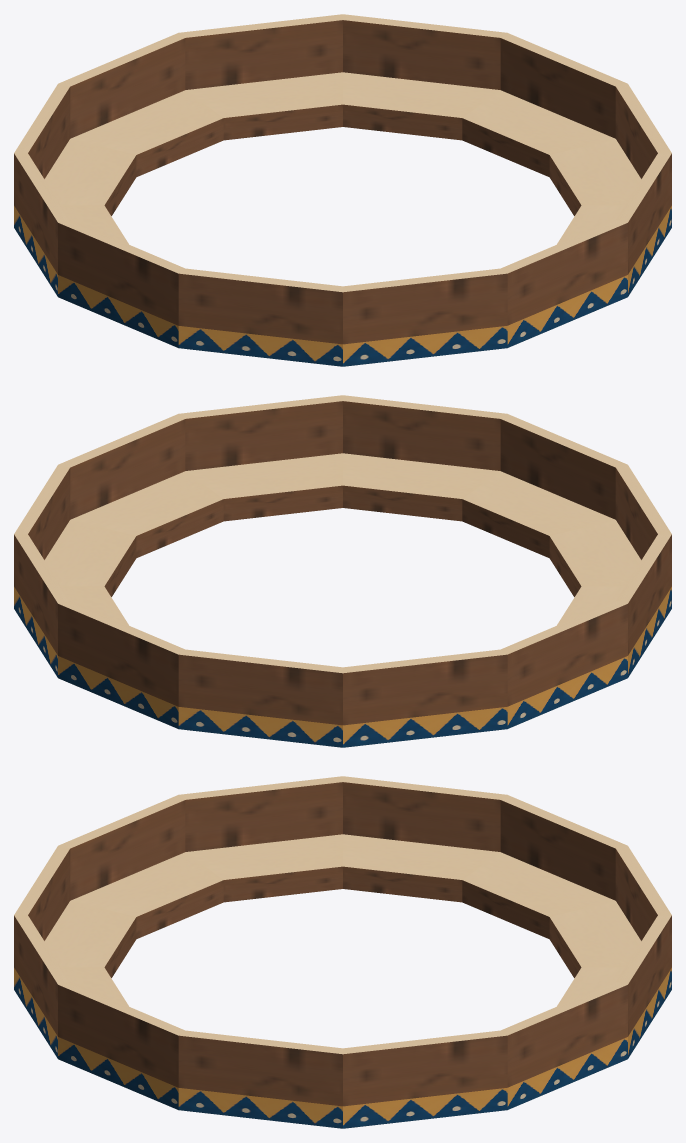
The model's file is rc_wa_tower_balcony_8m.glb.
3 views of the same model, one above another, from view 1: azimuth 30°, elevation 25°; view 2: azimuth 150°, elevation 25°; view 3: azimuth 270°, elevation 25° (orthographic).
Parts seen in each view (by area): view 1: SM_RC_WA_TowerBalconyRing_8m; view 2: SM_RC_WA_TowerBalconyRing_8m; view 3: SM_RC_WA_TowerBalconyRing_8m.
Part boxes in pixels (x1,y1,x2,y2): SM_RC_WA_TowerBalconyRing_8m: (14,14,671,366); SM_RC_WA_TowerBalconyRing_8m: (14,395,671,747); SM_RC_WA_TowerBalconyRing_8m: (14,776,671,1128).
Size of the model in its own units: 8 by 1 by 8.
1 material, 1 textured.
